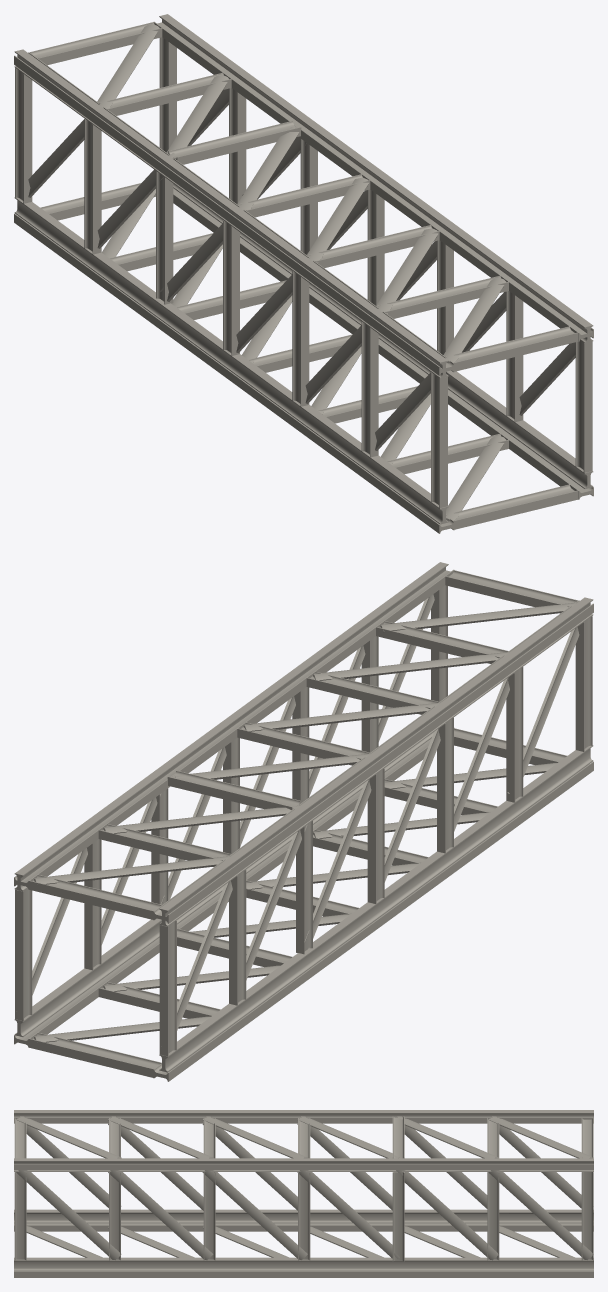
File: industrial_bridge.fbx
3 renders of one model, top to bottom at view 1: azimuth 30°, elevation 25°; view 2: azimuth 150°, elevation 25°; view 3: azimuth 270°, elevation 25°, orthographic. The views are drawn at different scales.
Visible parts, largest first — view 1: industrial_bridge; view 2: industrial_bridge; view 3: industrial_bridge.
Boxes of the visible parts, x1,y1,x2,y2 form: industrial_bridge: (14, 14, 593, 533); industrial_bridge: (14, 562, 593, 1081); industrial_bridge: (14, 1110, 593, 1277).
Bounding box in the file's own units: 162 × 169 × 761.
